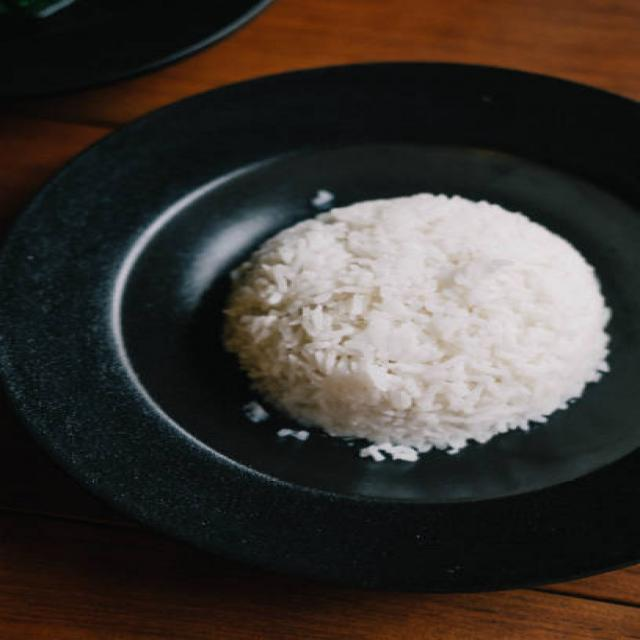rice: (226, 194, 613, 464)
